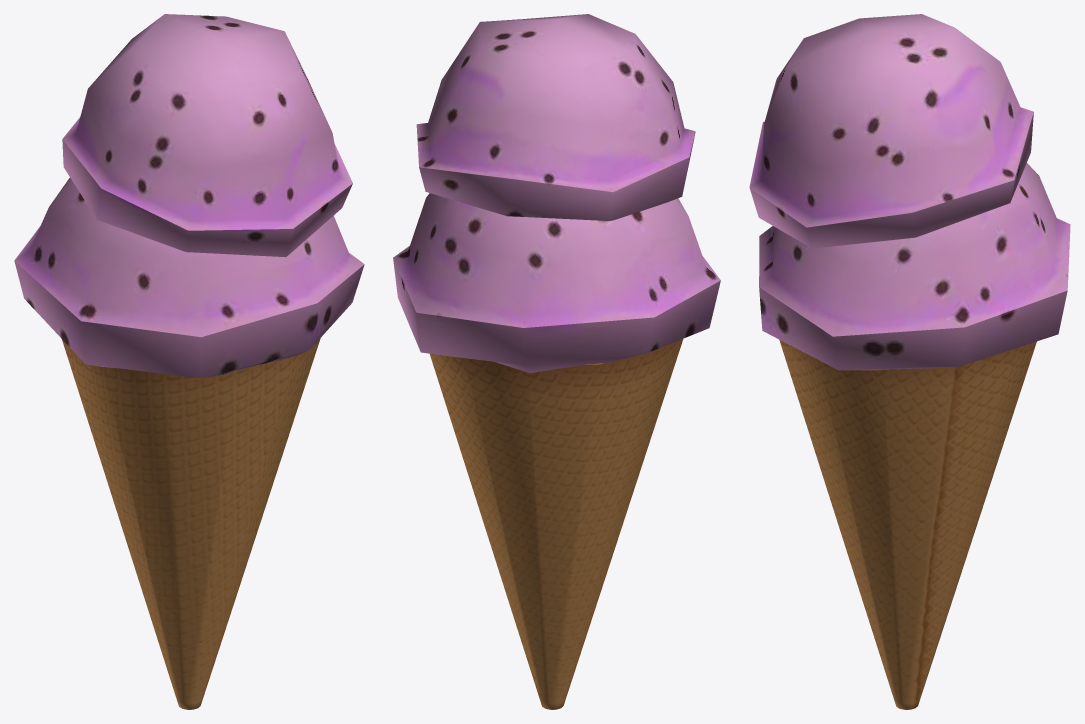
Rendered from decorLarge-candy-63.glb.
3 views of the same model, side by side, from view 1: azimuth 30°, elevation 25°; view 2: azimuth 150°, elevation 25°; view 3: azimuth 270°, elevation 25° (orthographic).
Visible parts, largest first — view 1: piece; view 2: piece; view 3: piece.
Boxes of the visible parts, x1,y1,x2,y2 form: piece: (14, 14, 364, 709); piece: (393, 14, 720, 709); piece: (749, 14, 1070, 709).
Size of the model in its own units: 0.0468 by 0.1096 by 0.0466.
Materials: 1 (1 with a texture image).
